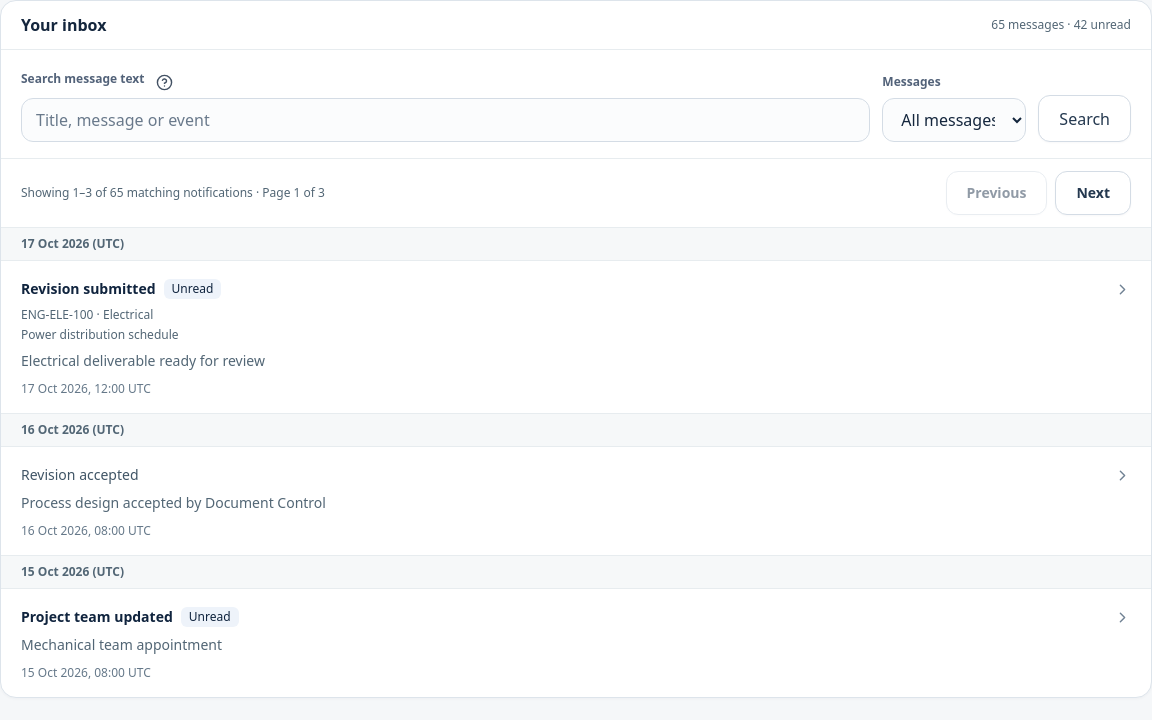
Test case: server-paged notification browsing › keeps search coverage behind keyboard-accessible help outside the input label
This screenshot has width=1152, height=720.
expect the search field labelled "Search message text" is shown: met, box [21,98,870,142]
Focus the button named "Notification search coverage" at {"x": 164, "y": 82}, box [148,66,180,98]
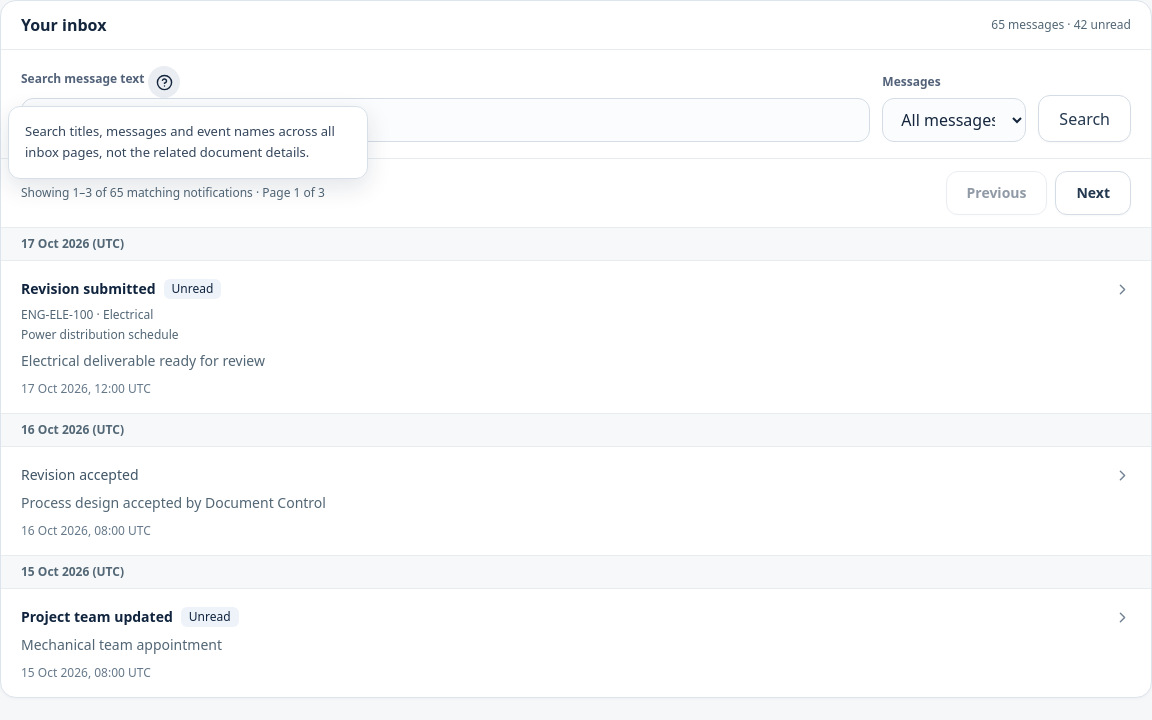
expect the tooltip shows "Search titles, messages and event names across all inbox pages, not the related document details.": met, box [25,122,335,161]
Press Escape in the button named "Notification search coverage", box [148,66,180,98]
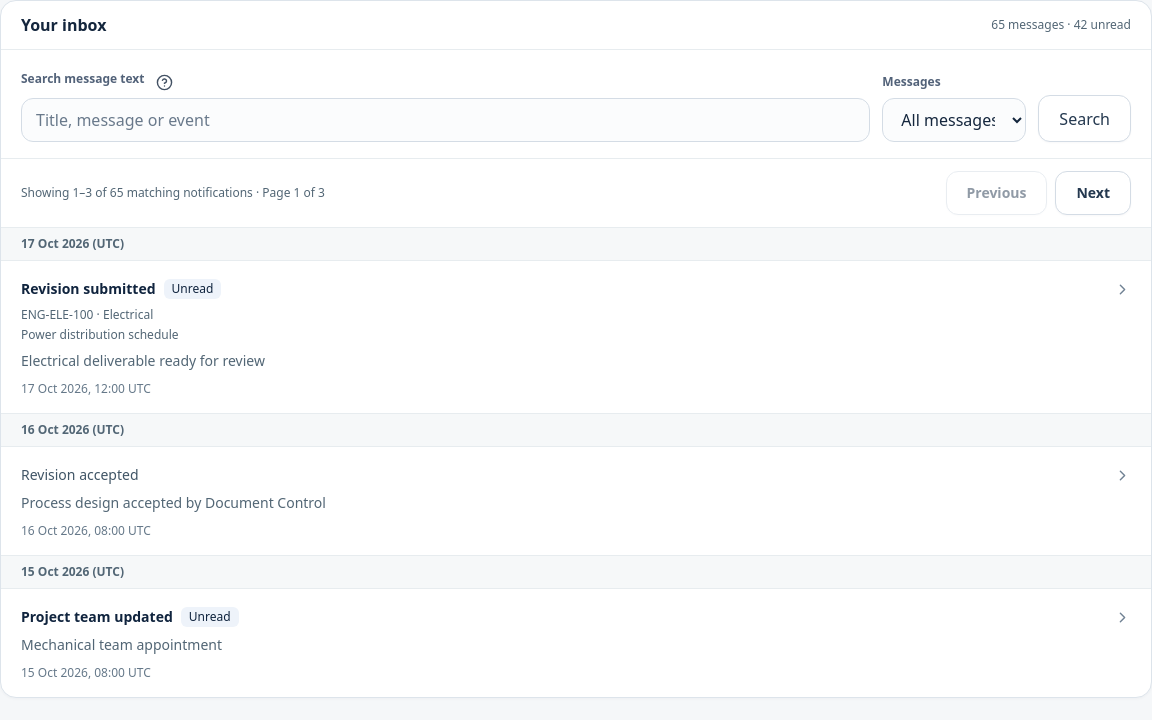
expect the tooltip "Search titles, messages and event names across all inbox pages, not the related" is gone: met
